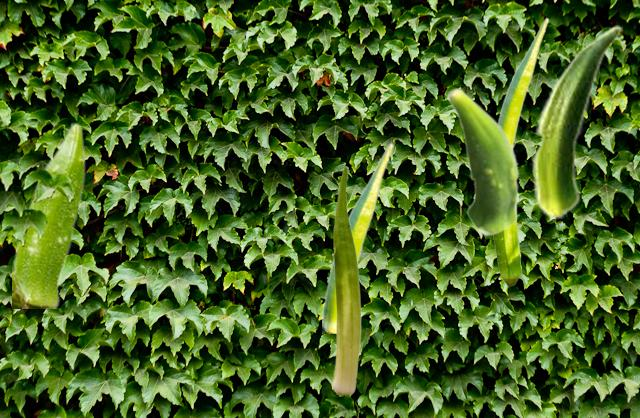okra: (531, 25, 621, 219), (12, 121, 85, 307), (322, 142, 392, 332), (447, 87, 519, 235), (497, 17, 548, 147), (332, 166, 360, 393), (492, 222, 521, 286)
